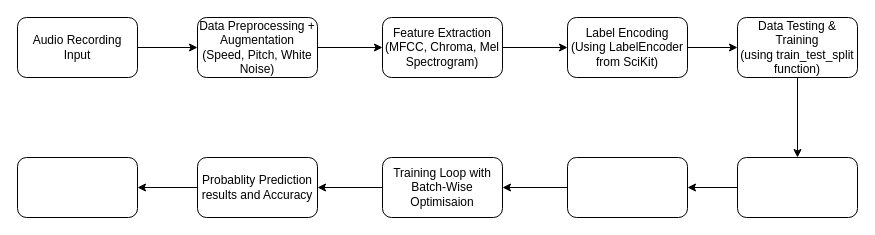
The diagram is 875 pixels wide and 235 high, and some of its shapes have lost their labels. Each missing label, with the box of its shape:
K-Fold Cross Validation (k=2): (566, 156, 688, 218)
Output Displayed onto Console: (16, 156, 138, 218)
Transfer Learning using VGG-16 Model (Adam Optimiser): (736, 156, 858, 218)
